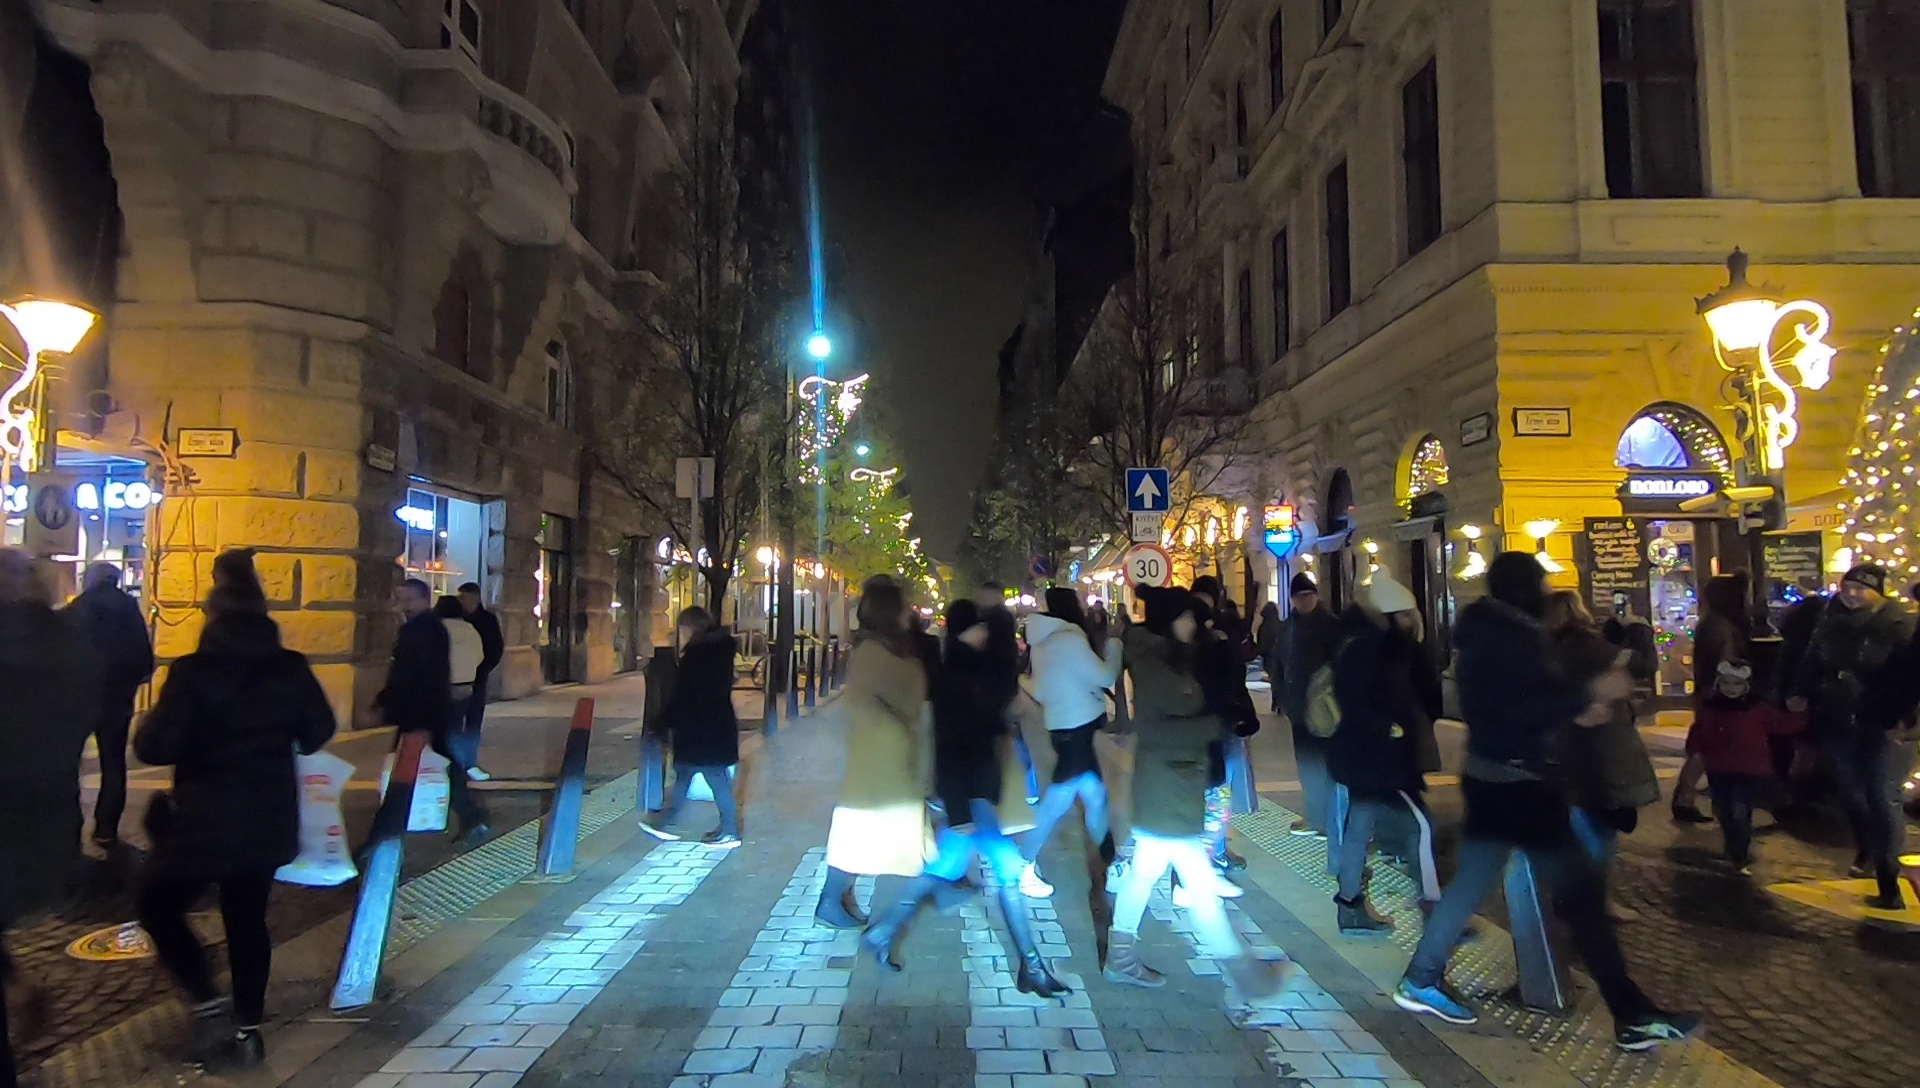person: (1419, 537, 1656, 1056), (128, 595, 301, 1086), (871, 602, 1065, 987), (1114, 582, 1260, 1010), (819, 574, 965, 943), (1334, 569, 1454, 950), (1530, 587, 1651, 941), (1819, 561, 1915, 919), (1023, 597, 1125, 900), (636, 604, 743, 849), (56, 556, 138, 845), (1695, 663, 1786, 882), (1, 547, 60, 863), (1284, 584, 1354, 837), (380, 580, 443, 808), (443, 580, 502, 774), (426, 589, 480, 787)
